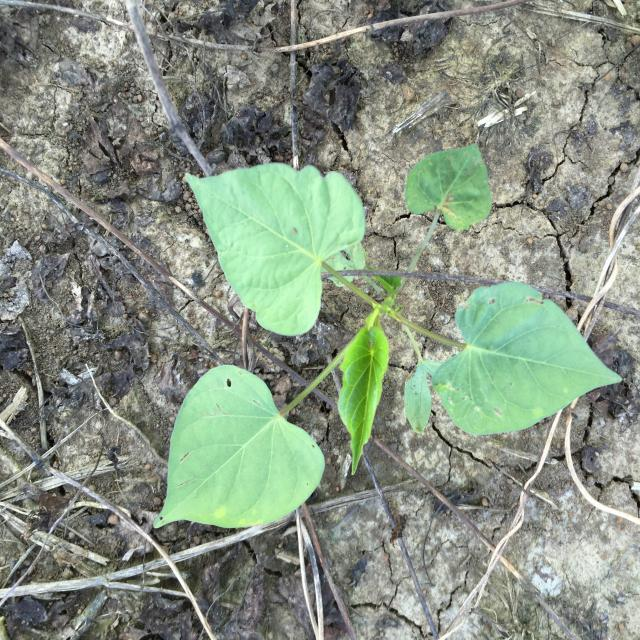MorningGlory: (153, 143, 622, 529)
